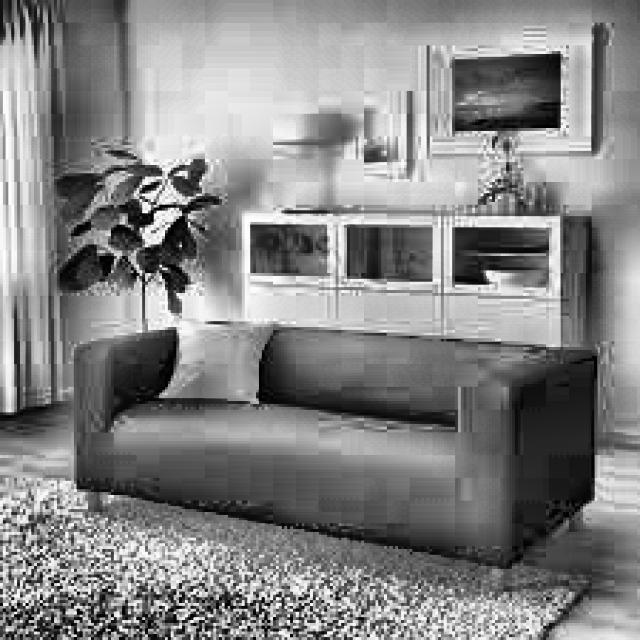sofa: (60, 322, 594, 564)
